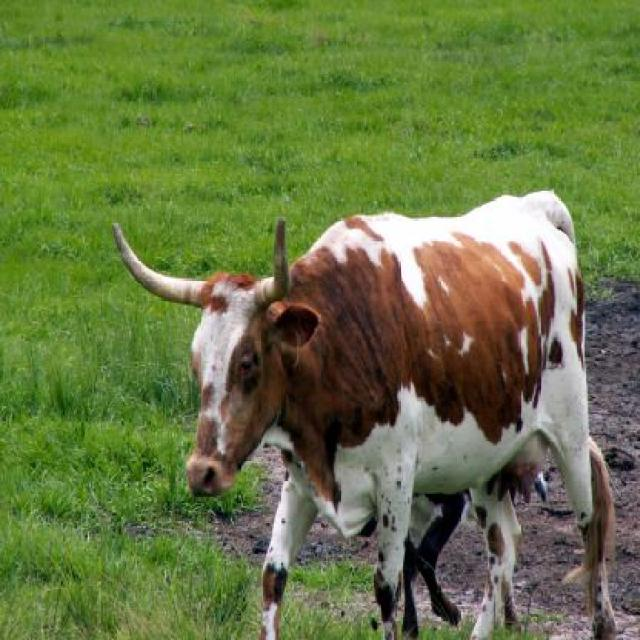Cow: (108, 192, 626, 638)
